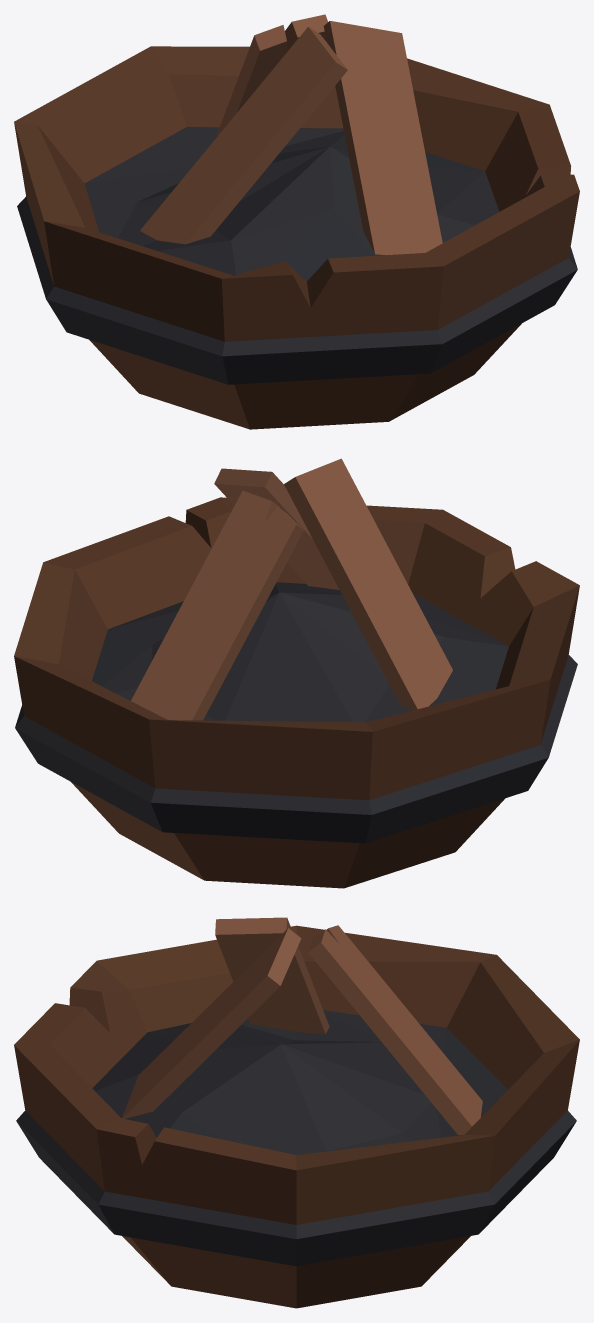
Rendered from LPWarPack_FirePit.fbx.
3 renders of one model, top to bottom at view 1: azimuth 30°, elevation 25°; view 2: azimuth 150°, elevation 25°; view 3: azimuth 270°, elevation 25°, orthographic. The views are drawn at different scales.
Parts seen in each view (by area): view 1: FirePit; view 2: FirePit; view 3: FirePit.
Boxes of the visible parts, x1,y1,x2,y2 form: FirePit: (14, 14, 579, 429); FirePit: (14, 458, 579, 888); FirePit: (14, 917, 579, 1308).
Size of the model in its own units: 59.69 by 37.27 by 59.91.
